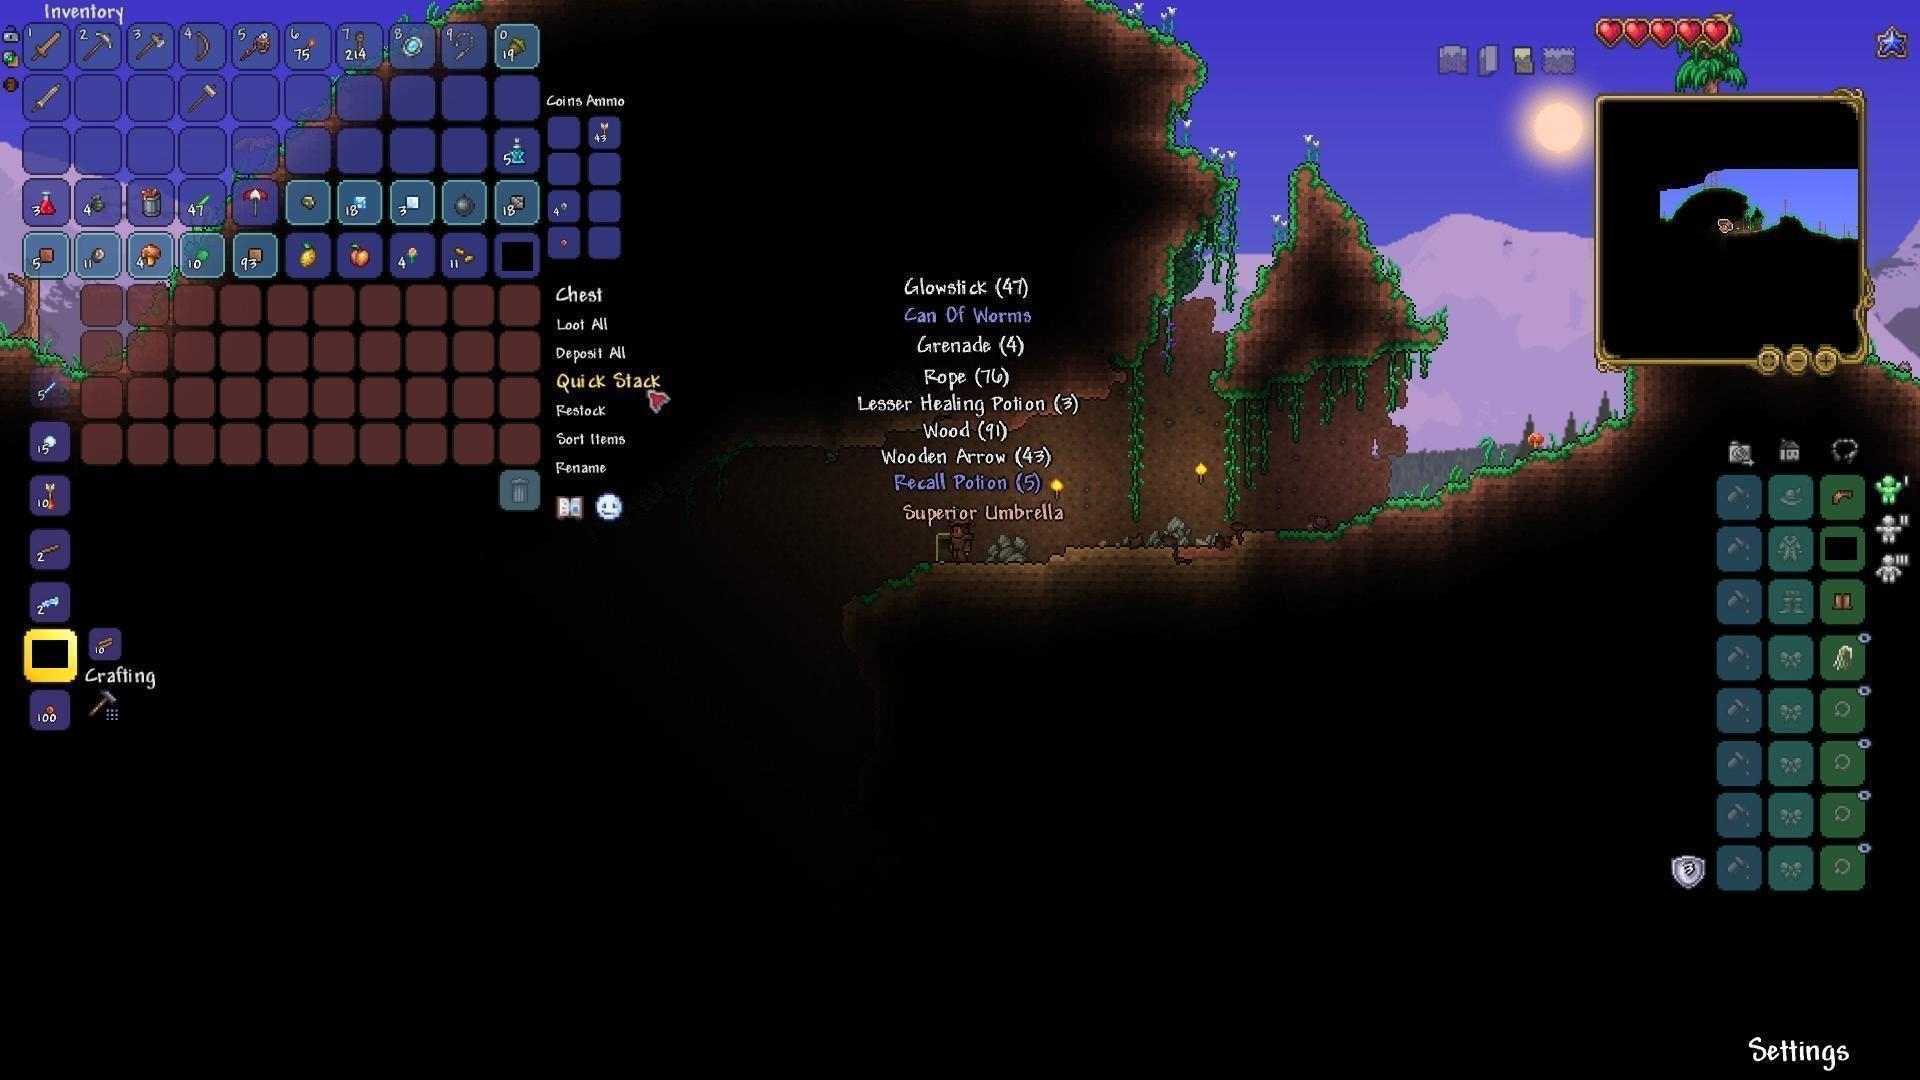helmet: (1826, 481, 1862, 512)
legs: (1830, 588, 1855, 618)
wood: (88, 630, 117, 658)
